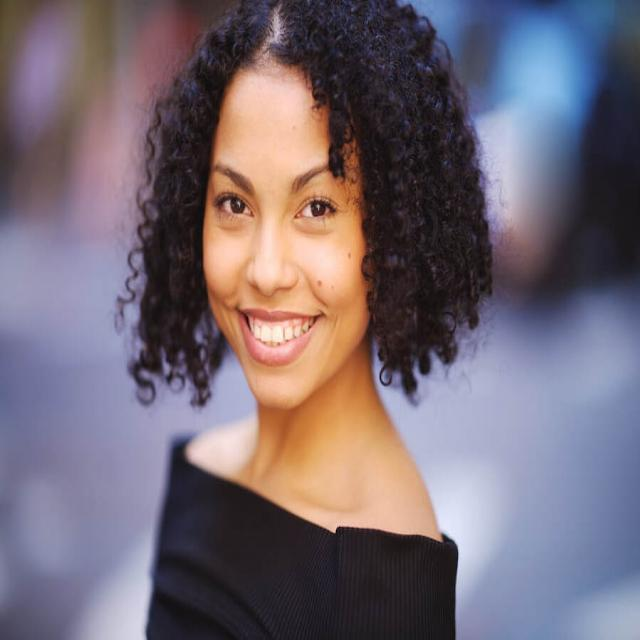nothing: (107, 0, 491, 244)
